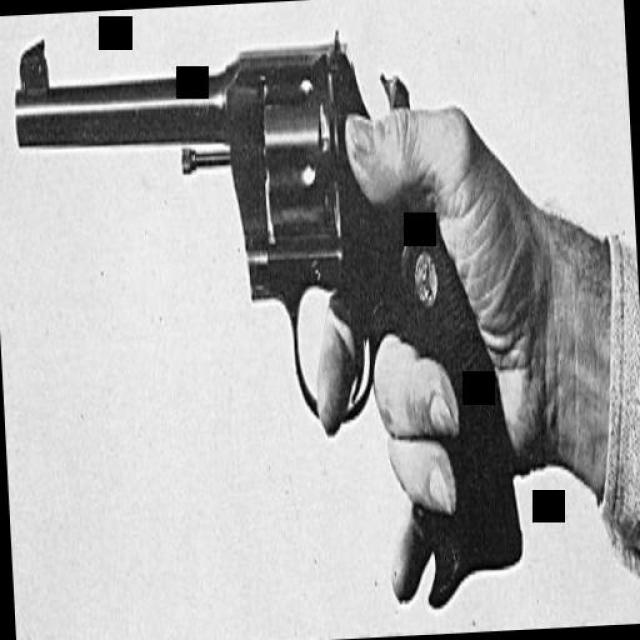gun: (14, 11, 532, 608)
